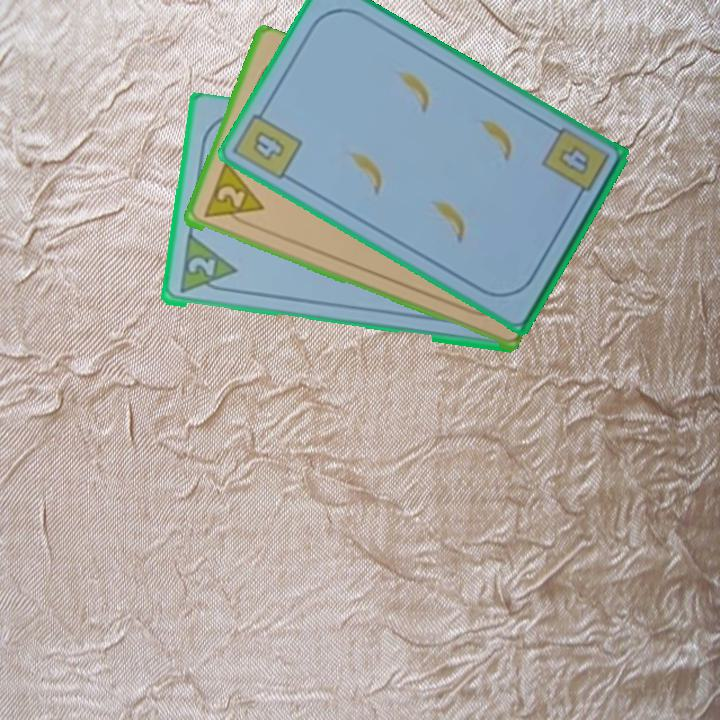2p: (199, 161, 266, 230), (184, 254, 218, 281)
4b: (232, 102, 305, 183), (554, 142, 593, 179)
